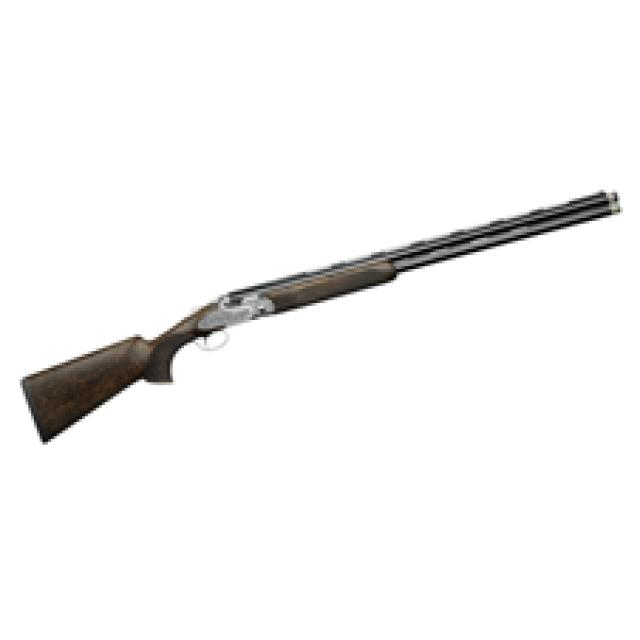rifle: (16, 188, 629, 449)
